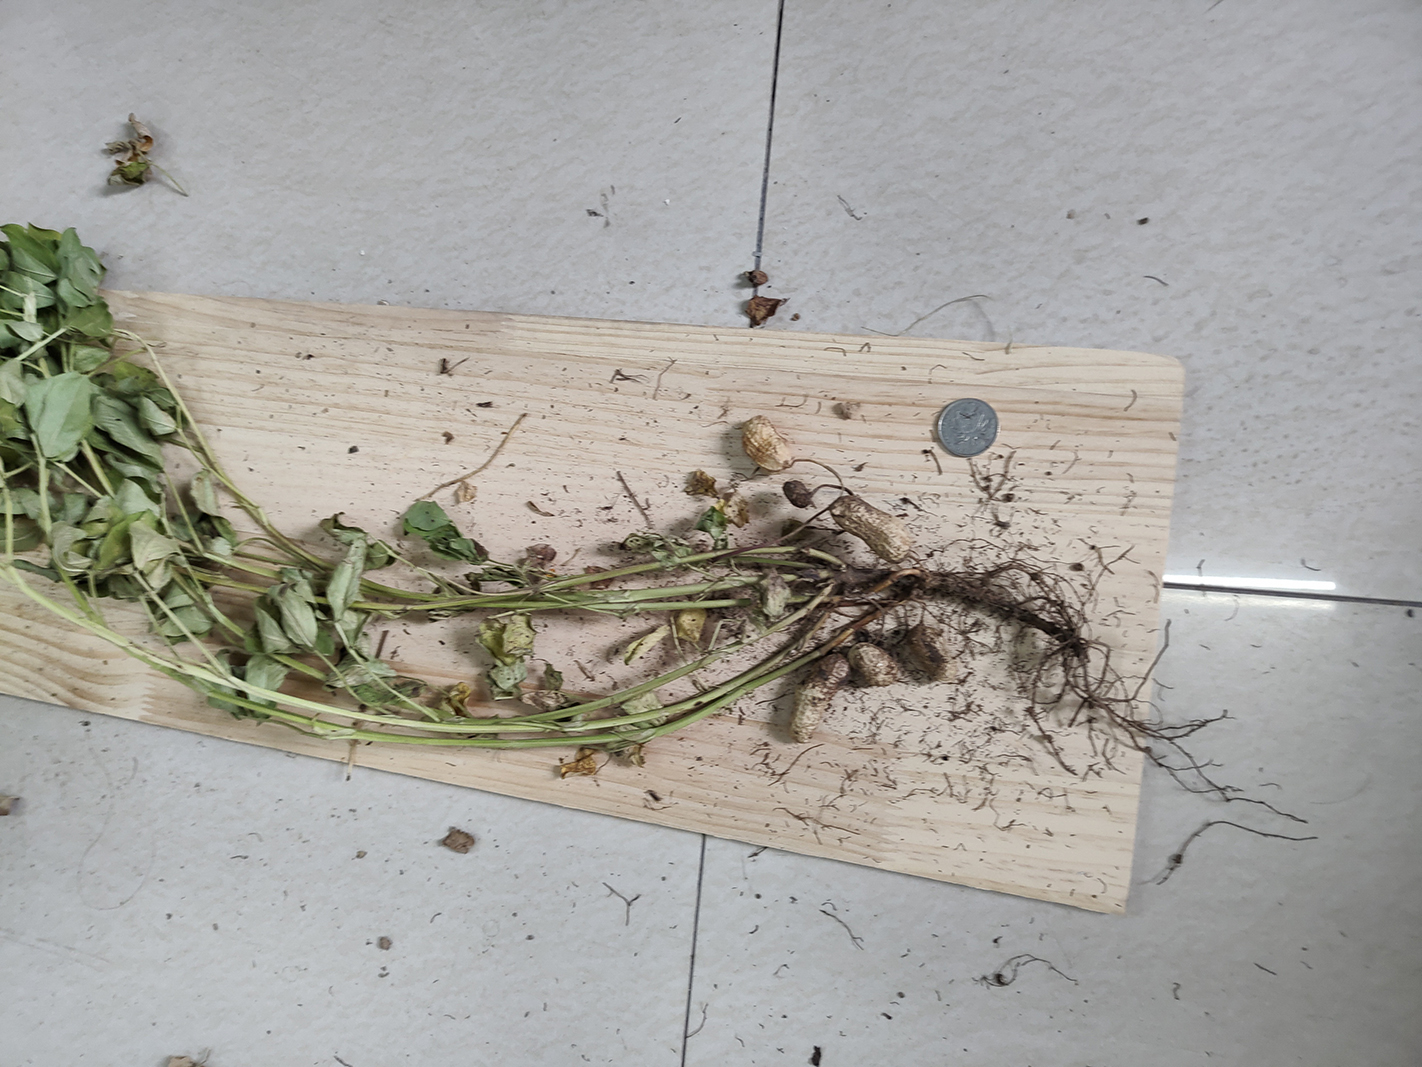h: (791, 650, 851, 742), (830, 497, 911, 562), (741, 414, 791, 470), (849, 642, 896, 687)
l: (908, 623, 952, 681), (782, 481, 814, 508)
